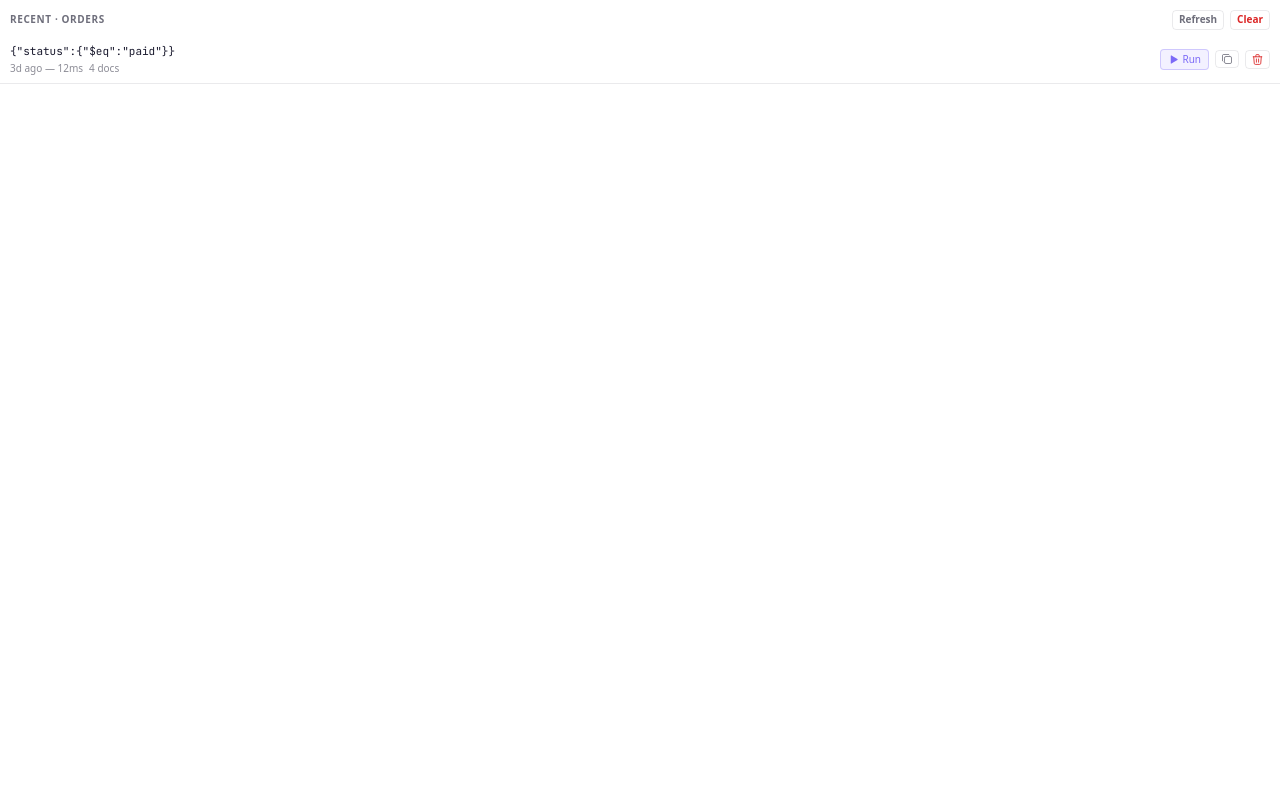
W15 §13.7 — Recent's Copy MQL reports, and never silently no-ops › reports a rejected copy rather than claiming success
The image size is (1280, 800).
Click the button named "Copy MQL to the clipboard".
click(1227, 59)  # box [1215,50,1239,68]
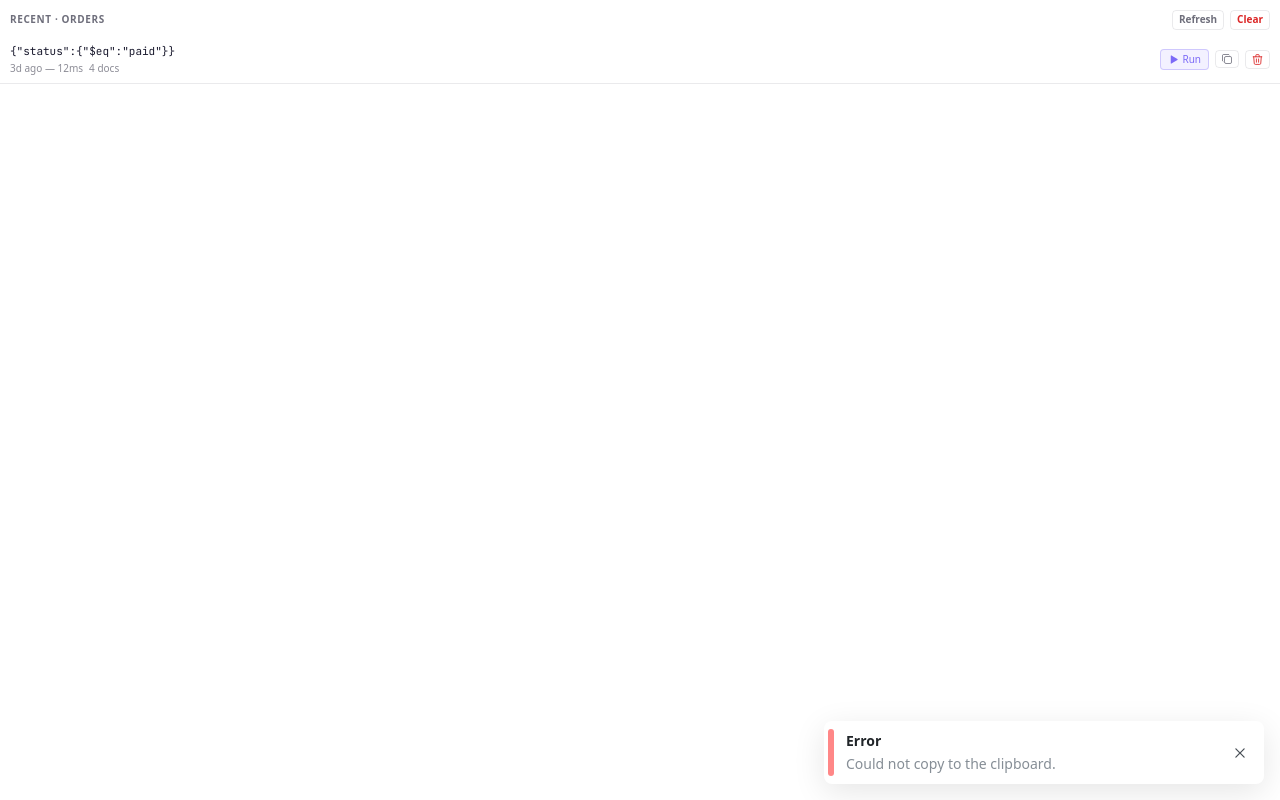
Now the text "Could not copy to the clipboard." is shown, box [846,754,1056,773]
